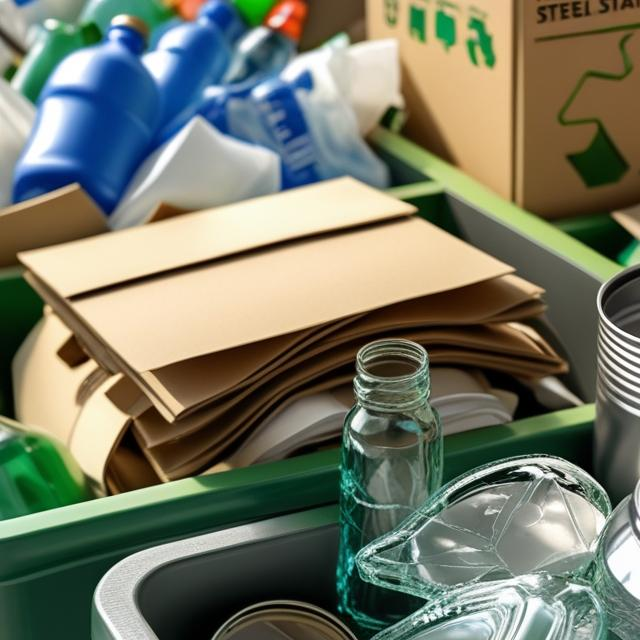metal: (190, 583, 362, 640)
plastic: (0, 34, 248, 185), (97, 0, 293, 182)
